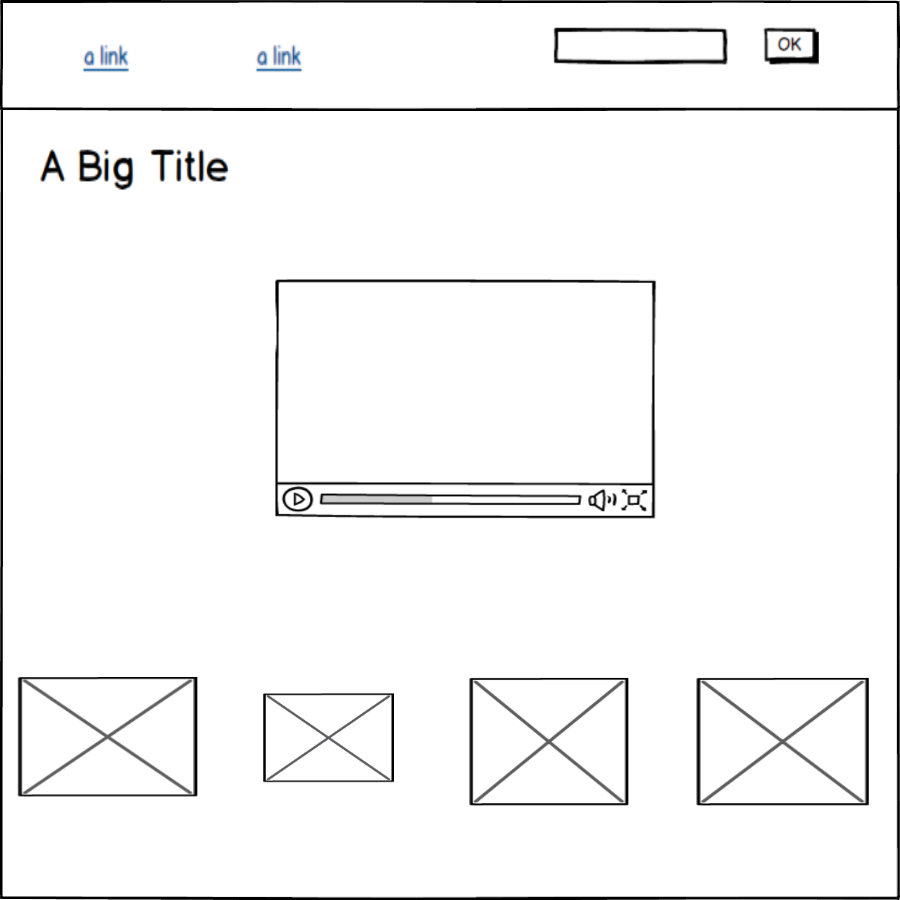button: (759, 22, 822, 67)
h1: (28, 140, 233, 192)
image: (694, 673, 872, 811), (15, 671, 201, 799), (467, 674, 627, 807), (261, 691, 400, 786)
input: (546, 21, 731, 69)
navlink: (248, 33, 311, 84), (71, 37, 144, 80)
video: (268, 275, 661, 528)
